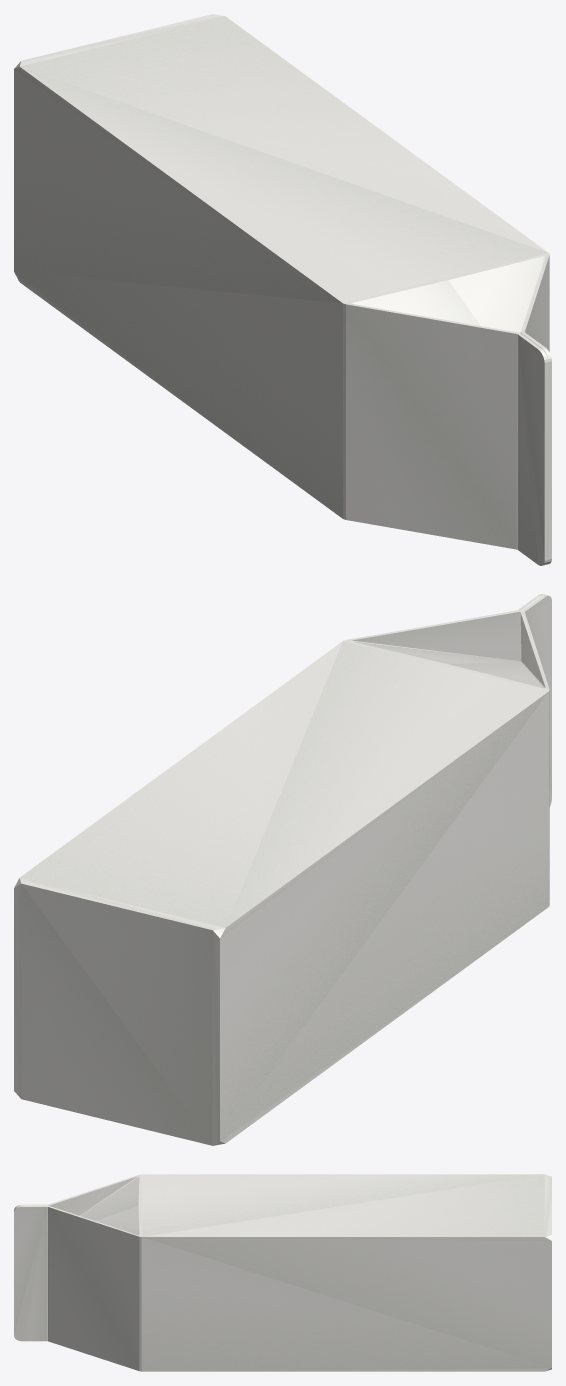
The model's file is milk.obj.
3 views of the same model, one above another, from view 1: azimuth 30°, elevation 25°; view 2: azimuth 150°, elevation 25°; view 3: azimuth 270°, elevation 25° (orthographic). The views are drawn at different scales.
Visible parts, largest first — view 1: Milk; view 2: Milk; view 3: Milk.
Part boxes in pixels (x1,y1,x2,y2): Milk: (14,14,551,565); Milk: (14,594,551,1145); Milk: (14,1174,551,1371).
Bounding box in the file's own units: 0.0397 × 0.0397 × 0.144.
1 material, 1 textured.
